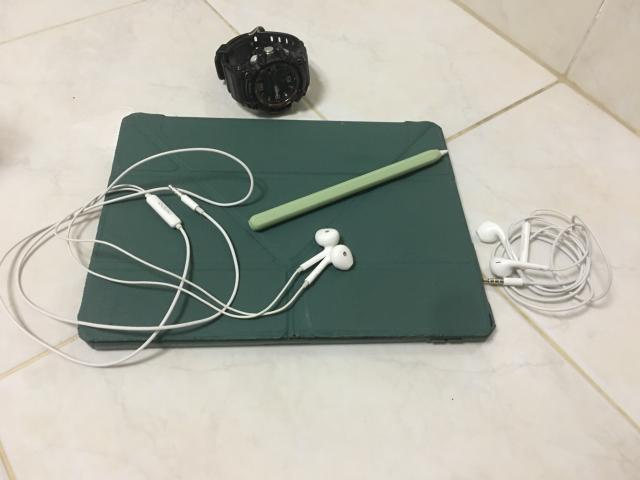Watch: (215, 26, 310, 112)
wire: (0, 148, 354, 368), (476, 209, 612, 312)
